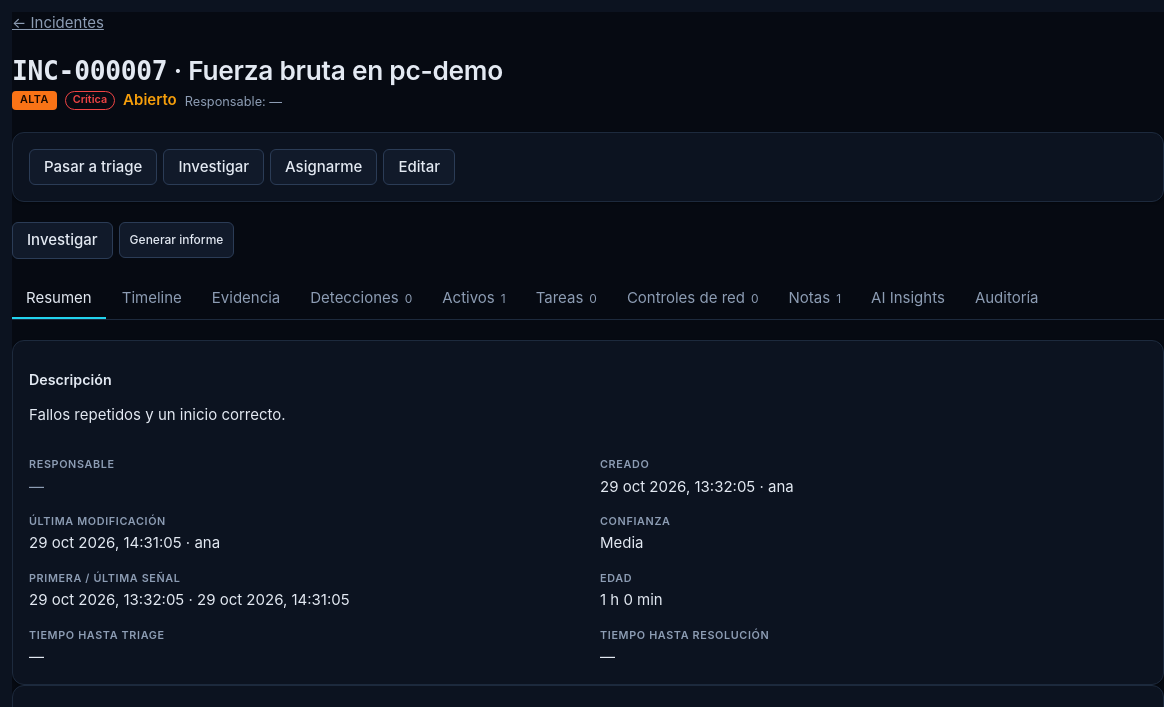
Scenario: IncidentDetailPage › las acciones envían la versión leída y un 409 muestra el conflicto sin sobrescribir
What coordinates should you click on to do the following:
click the button "Pasar a triage"
I would click on:
 (93, 167)
Its box is left=29, top=149, right=157, bottom=185.
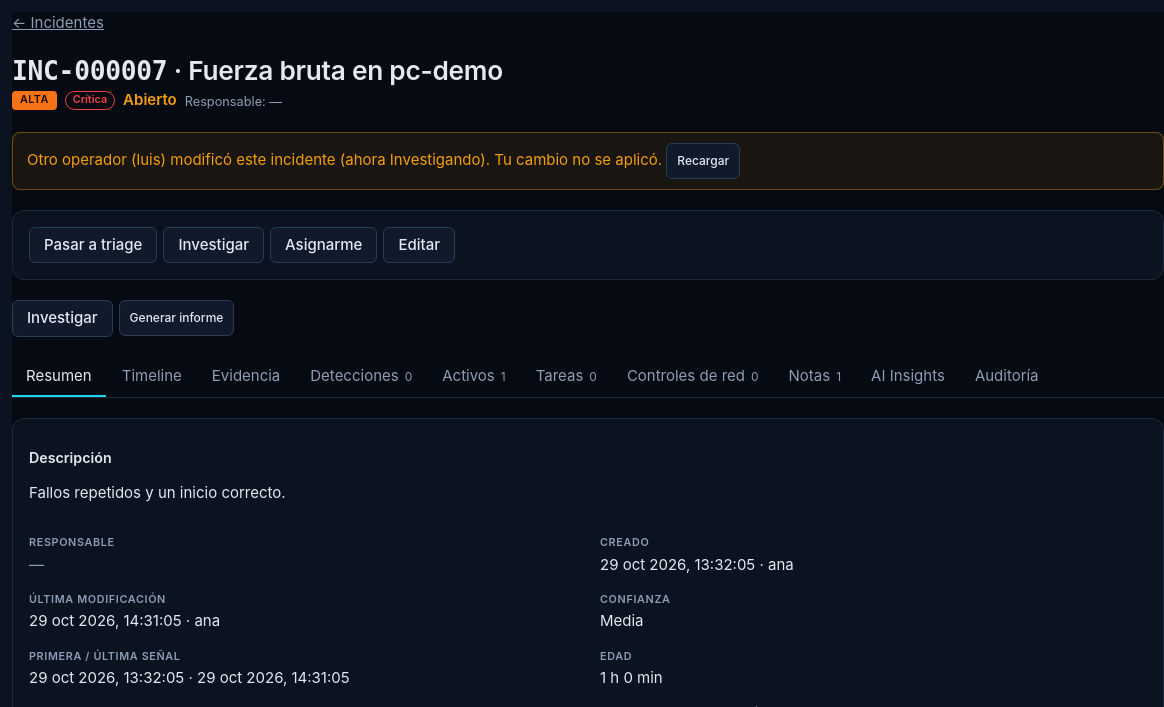
Result: the text "Otro operador (luis) modificó este incidente" is shown at left=12, top=132, right=1163, bottom=190
Result: the text "ahora Investigando" is shown at left=336, top=150, right=486, bottom=169
What coordinates should you click on to do the following:
click the button "Recargar"
I would click on:
 (703, 161)
Its box is left=666, top=143, right=740, bottom=179.
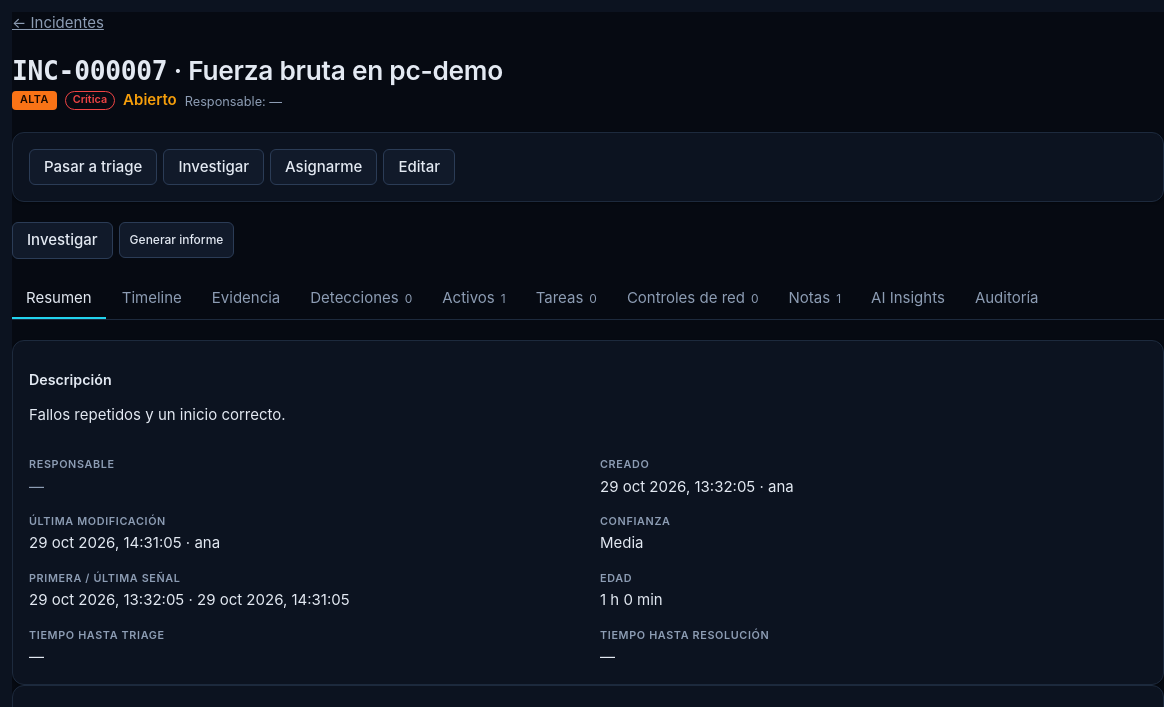
Result: the text "Otro operador" is gone
